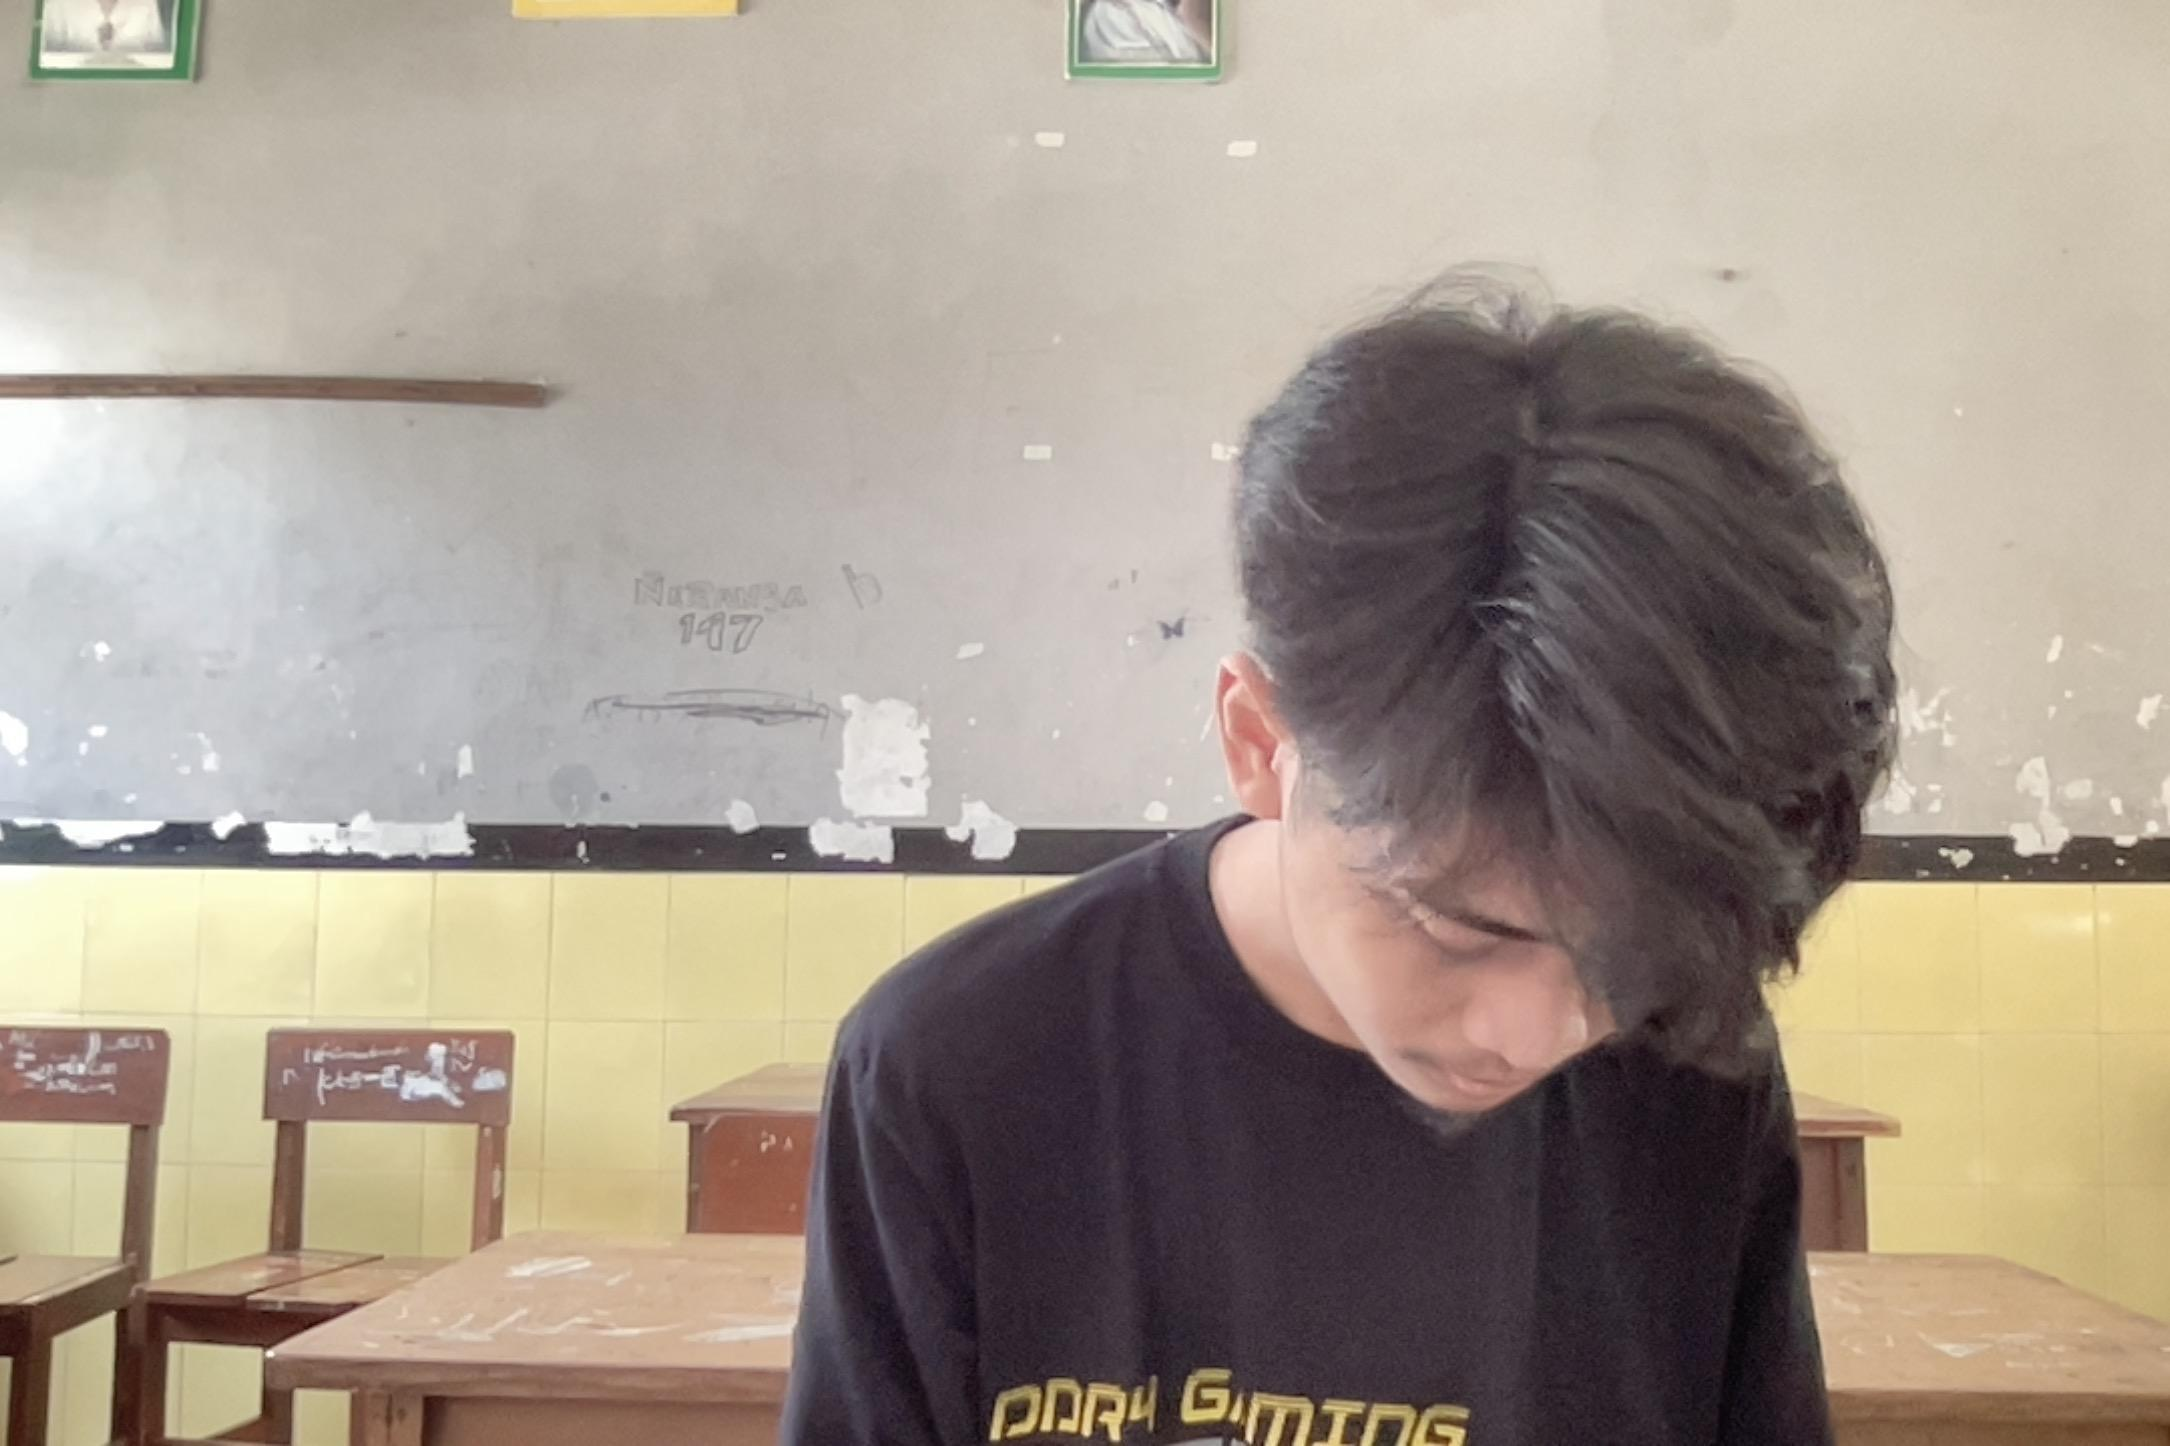good: (750, 203, 1954, 1446)
